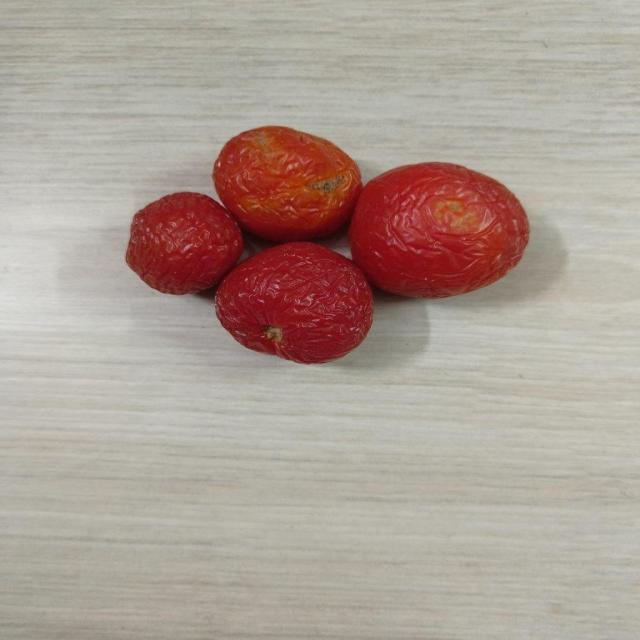overripe: (350, 158, 528, 302), (219, 238, 375, 368), (214, 125, 361, 244), (122, 192, 242, 298)
